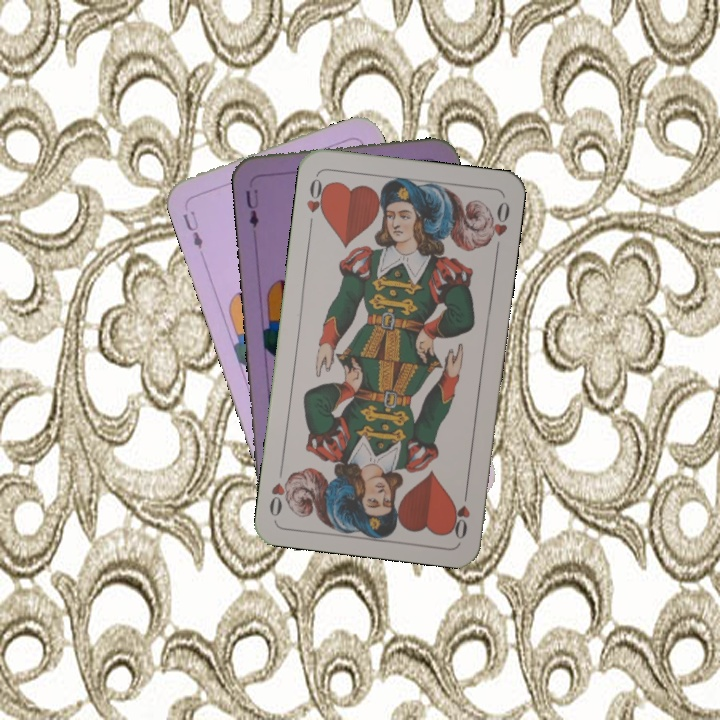EU: (178, 206, 206, 252), (241, 185, 262, 230)
HO: (302, 172, 330, 231), (447, 483, 473, 542)
